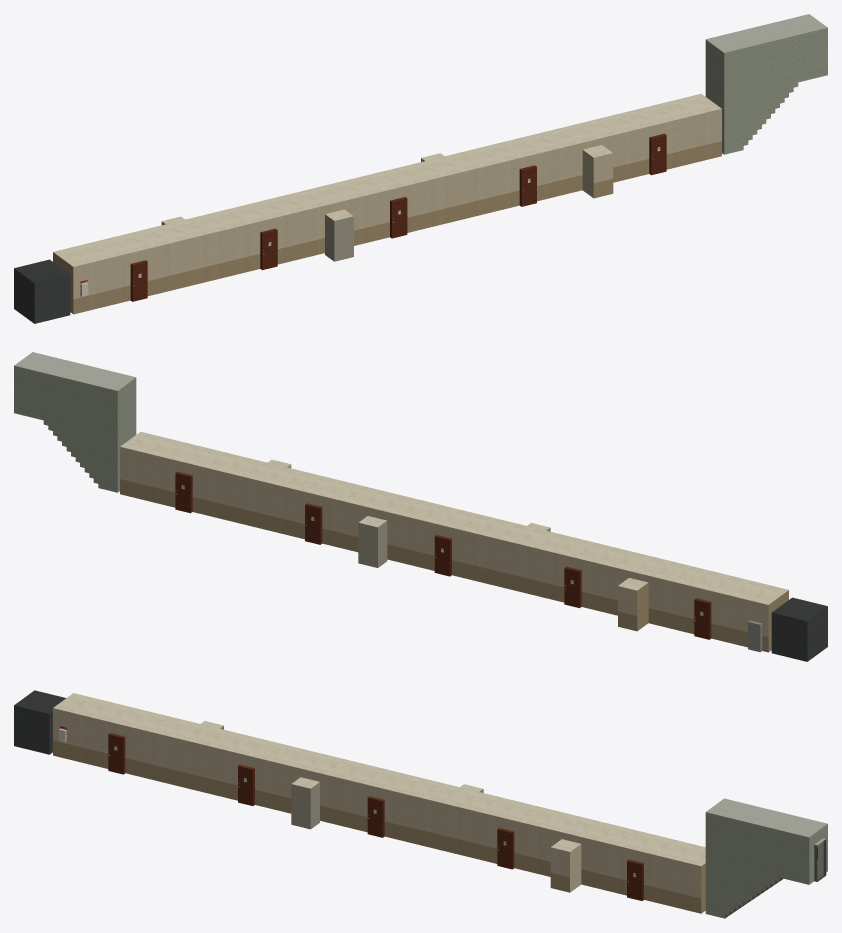
Rendered from floor_1_lower.glb.
3 views of the same model, one above another, from view 1: azimuth 30°, elevation 25°; view 2: azimuth 150°, elevation 25°; view 3: azimuth 330°, elevation 25° (orthographic).
Visible parts, largest first — view 1: Wall_Upper.001, Ceiling_Popcorn.001, Wall_Lower.001, Stair_Paint.001, Lift_Shaft.001, Stair_Ceiling.001, Closet_Paint.001, Door_Jamb.001, Lift_Ceiling.001, DoorLeaf_room_109, DoorLeaf_room_106, DoorLeaf_room_110 (+1 smaller); view 2: Wall_Upper.001, Ceiling_Popcorn.001, Wall_Lower.001, Stair_Paint.001, Lift_Shaft.001, Stair_Ceiling.001, Closet_Paint.001, Door_Jamb.001, Lift_Ceiling.001, DoorLeaf_room_104, DoorLeaf_room_101, DoorLeaf_room_105 (+1 smaller); view 3: Wall_Upper.001, Ceiling_Popcorn.001, Wall_Lower.001, Stair_Paint.001, Stair_Ceiling.001, Lift_Shaft.001, Closet_Paint.001, Lift_Ceiling.001, Door_Jamb.001, DoorLeaf_room_109, DoorLeaf_room_108, DoorLeaf_room_106 (+2 smaller).
Part boxes in pixels (box(x1,y1,x2,y2)): Wall_Upper.001: box(73, 109, 721, 298); Ceiling_Popcorn.001: box(53, 93, 721, 266); Wall_Lower.001: box(53, 141, 721, 314); Stair_Paint.001: box(705, 27, 827, 154); Lift_Shaft.001: box(14, 268, 70, 323); Stair_Ceiling.001: box(706, 14, 827, 52); Closet_Paint.001: box(325, 158, 424, 261); Door_Jamb.001: box(130, 133, 665, 301); Lift_Ceiling.001: box(14, 259, 69, 283); DoorLeaf_room_109: box(521, 166, 536, 206); DoorLeaf_room_106: box(132, 261, 147, 301); DoorLeaf_room_110: box(651, 135, 666, 174); Wall_Upper.001: box(120, 447, 768, 636); Ceiling_Popcorn.001: box(120, 431, 788, 604); Wall_Lower.001: box(120, 479, 788, 652); Stair_Paint.001: box(14, 365, 136, 492); Lift_Shaft.001: box(771, 606, 827, 661); Stair_Ceiling.001: box(14, 352, 135, 390); Closet_Paint.001: box(358, 521, 550, 567); Door_Jamb.001: box(175, 471, 711, 639); Lift_Ceiling.001: box(772, 597, 827, 621); DoorLeaf_room_104: box(305, 504, 320, 544); DoorLeaf_room_101: box(694, 599, 709, 639); DoorLeaf_room_105: box(175, 473, 190, 512); Wall_Upper.001: box(53, 708, 701, 898); Ceiling_Popcorn.001: box(53, 693, 705, 866); Wall_Lower.001: box(53, 726, 705, 913); Stair_Paint.001: box(705, 812, 827, 918); Stair_Ceiling.001: box(706, 798, 827, 845); Lift_Shaft.001: box(14, 705, 52, 754); Closet_Paint.001: box(291, 782, 483, 829); Lift_Ceiling.001: box(14, 690, 65, 713); Door_Jamb.001: box(108, 733, 643, 900); DoorLeaf_room_109: box(497, 829, 512, 869); DoorLeaf_room_108: box(367, 797, 382, 837); DoorLeaf_room_106: box(108, 734, 123, 774).
Bounding box in the file's own units: 49.2 × 6 × 4.6.
38 materials, 29 textured.
